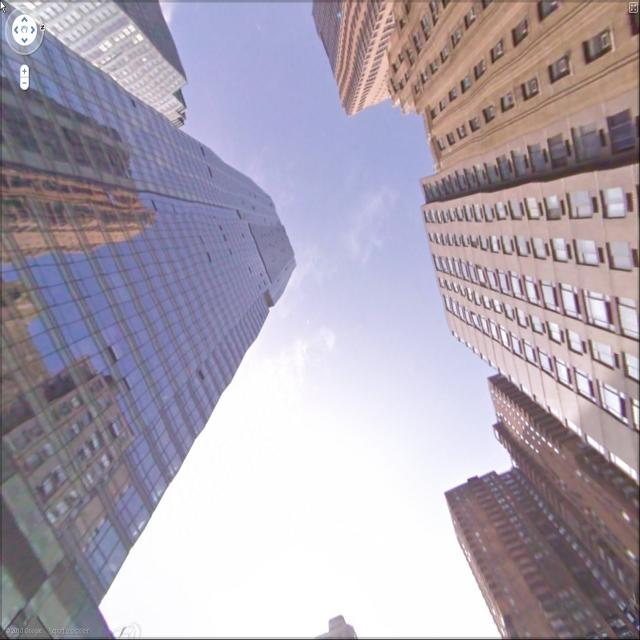b_1: (309, 1, 633, 448), (0, 114, 311, 515), (408, 370, 624, 640), (5, 1, 197, 92)
